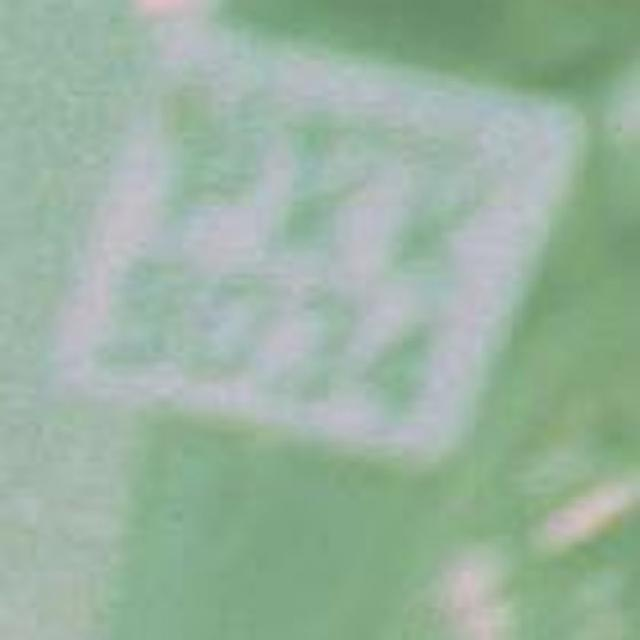0: (240, 260, 385, 425), (156, 252, 316, 400)
4: (324, 276, 456, 444)
5: (72, 236, 212, 376)
P: (152, 109, 256, 256)
